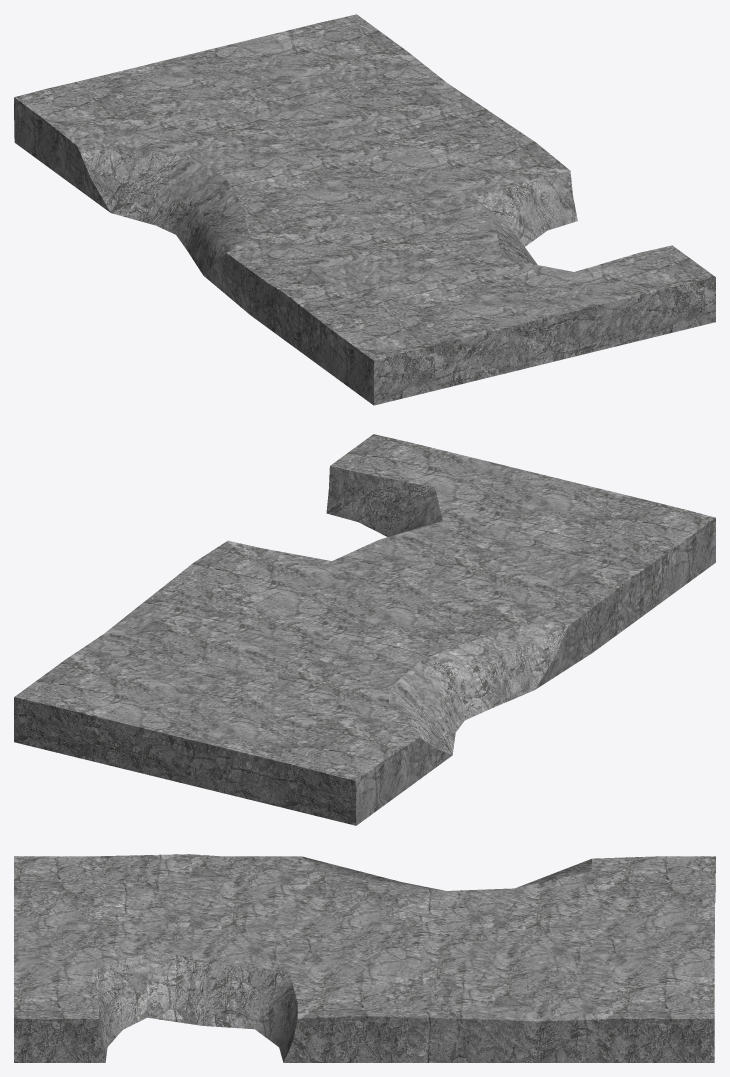
The model's file is materials_3_road_10.fbx.
3 renders of one model, top to bottom at view 1: azimuth 30°, elevation 25°; view 2: azimuth 150°, elevation 25°; view 3: azimuth 270°, elevation 25°, orthographic. The views are drawn at different scales.
Parts seen in each view (by area): view 1: materials_3_road_10; view 2: materials_3_road_10; view 3: materials_3_road_10.
Boxes of the visible parts, <box> form: materials_3_road_10: <box>14,14,715,405</box>; materials_3_road_10: <box>14,434,715,825</box>; materials_3_road_10: <box>14,854,715,1062</box>.
Size of the model in its own units: 235 by 31.3 by 426.
